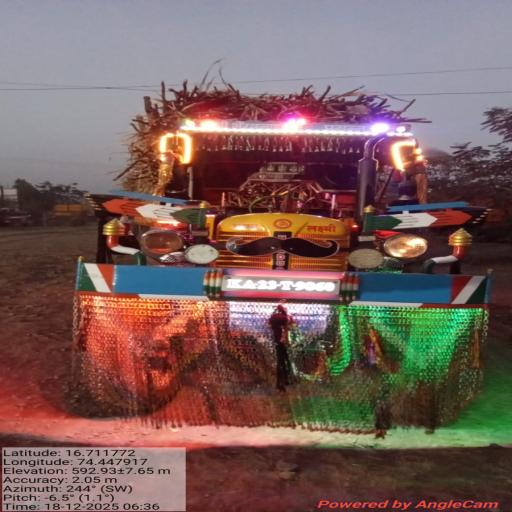number_plate: (224, 271, 351, 298)
